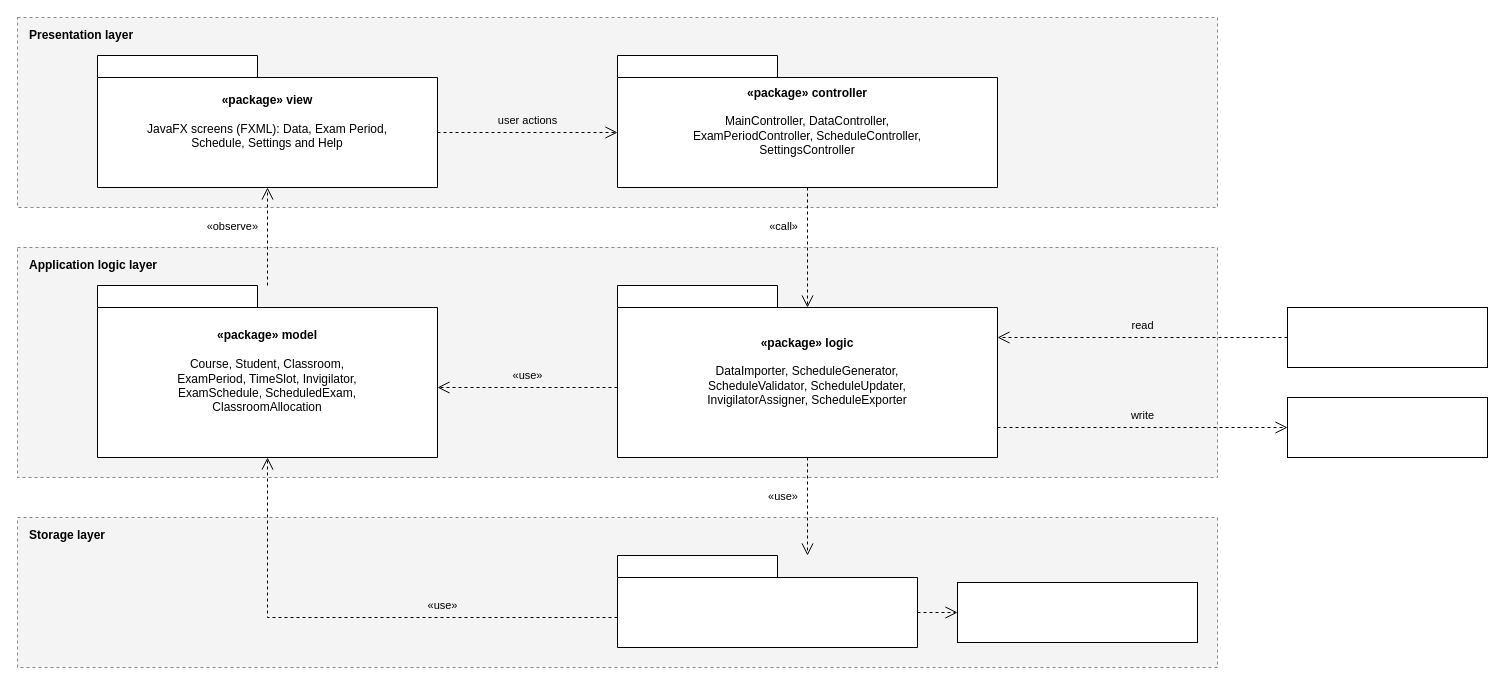
Some shapes in this 1505 by 685 pixel diagram are drawn without their labels. Here are the shapes that lost their labels. From the top down, the centre of each, then its label:
point (1387, 337): «artifact» Input files
point (1387, 427): «artifact» Output files (CSV, PDF)
point (767, 601): «package» storage DataRepository
point (1077, 612): «artifact» exam_scheduler.db (SQLite)
